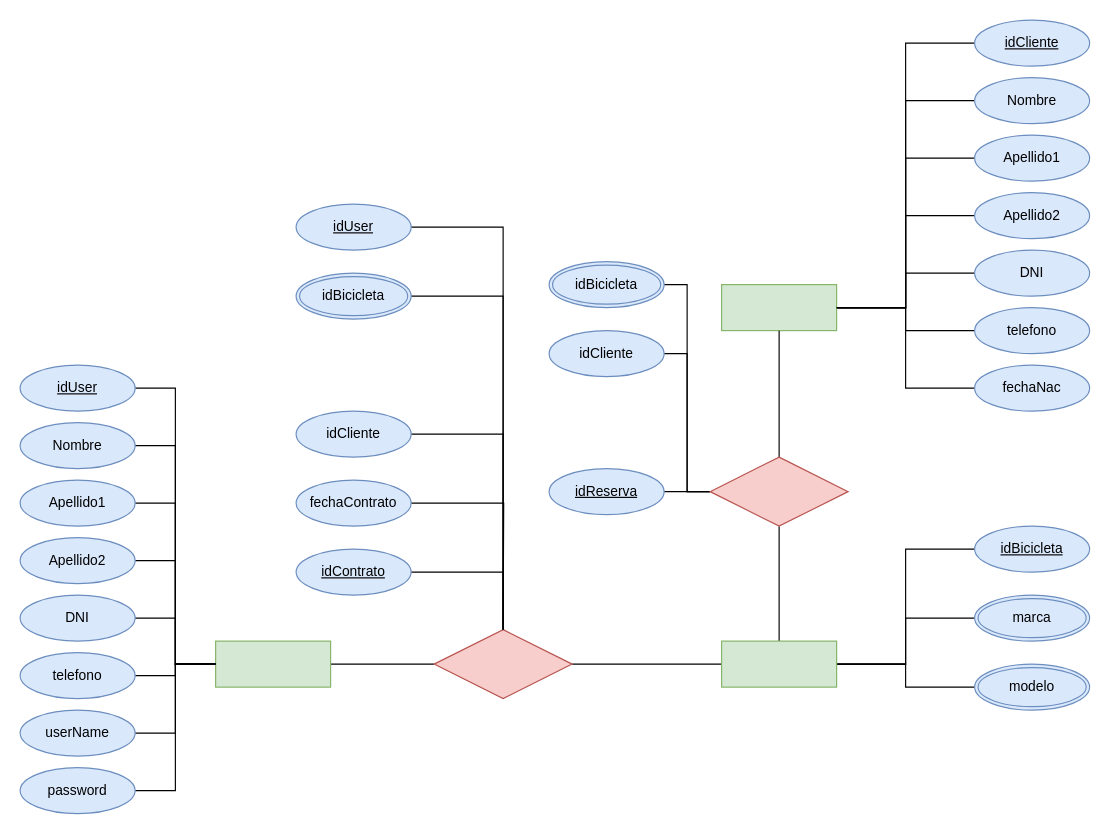
This 1110x834 diagram has some shape labels left out. Each missing label, with the box of its shape:
Bicicletas: (720, 640, 837, 687)
Clientes: (720, 283, 837, 331)
Contratan: (433, 628, 572, 699)
reservan: (709, 456, 848, 526)
Usuarios: (214, 640, 331, 687)
